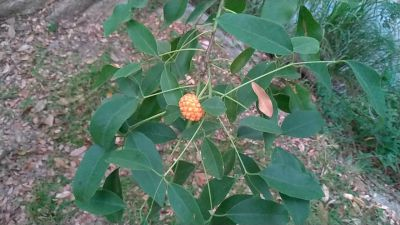eggs: (179, 92, 203, 121)
